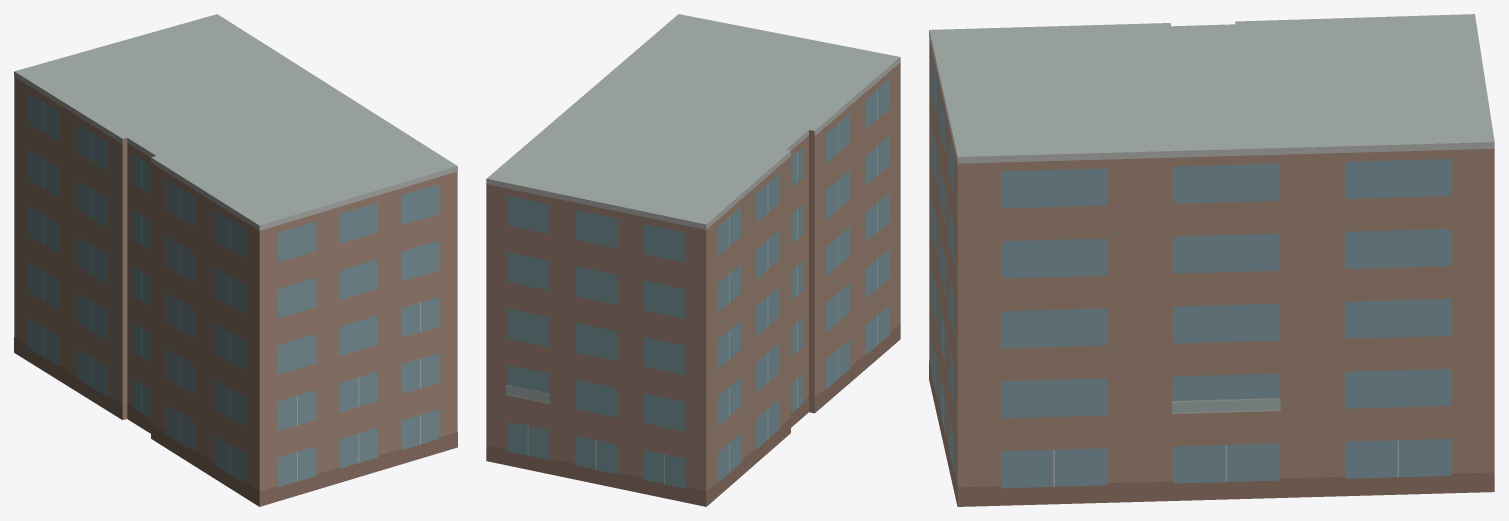
The model's file is survey-upis-32929540.glb.
3 views of the same model, side by side, from view 1: azimuth 30°, elevation 25°; view 2: azimuth 150°, elevation 25°; view 3: azimuth 270°, elevation 25° (orthographic). The views are drawn at different scales.
Parts seen in each view (by area): view 1: survey-upis-32929540.tmp; view 2: survey-upis-32929540.tmp; view 3: survey-upis-32929540.tmp.
Part boxes in pixels (x1,y1,x2,y2): survey-upis-32929540.tmp: (14, 14, 457, 506); survey-upis-32929540.tmp: (486, 14, 900, 506); survey-upis-32929540.tmp: (929, 14, 1494, 506).
Size of the model in its own units: 11.32 by 12.9 by 18.91.
